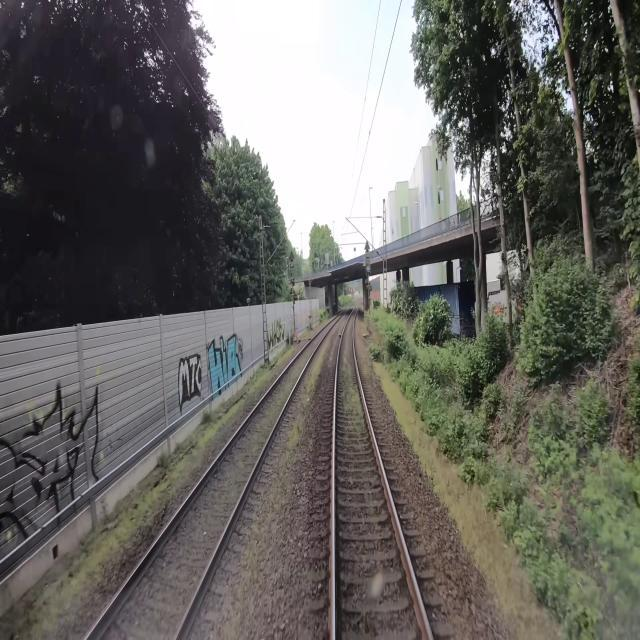Plant: (287, 336, 331, 447), (342, 322, 364, 437)
